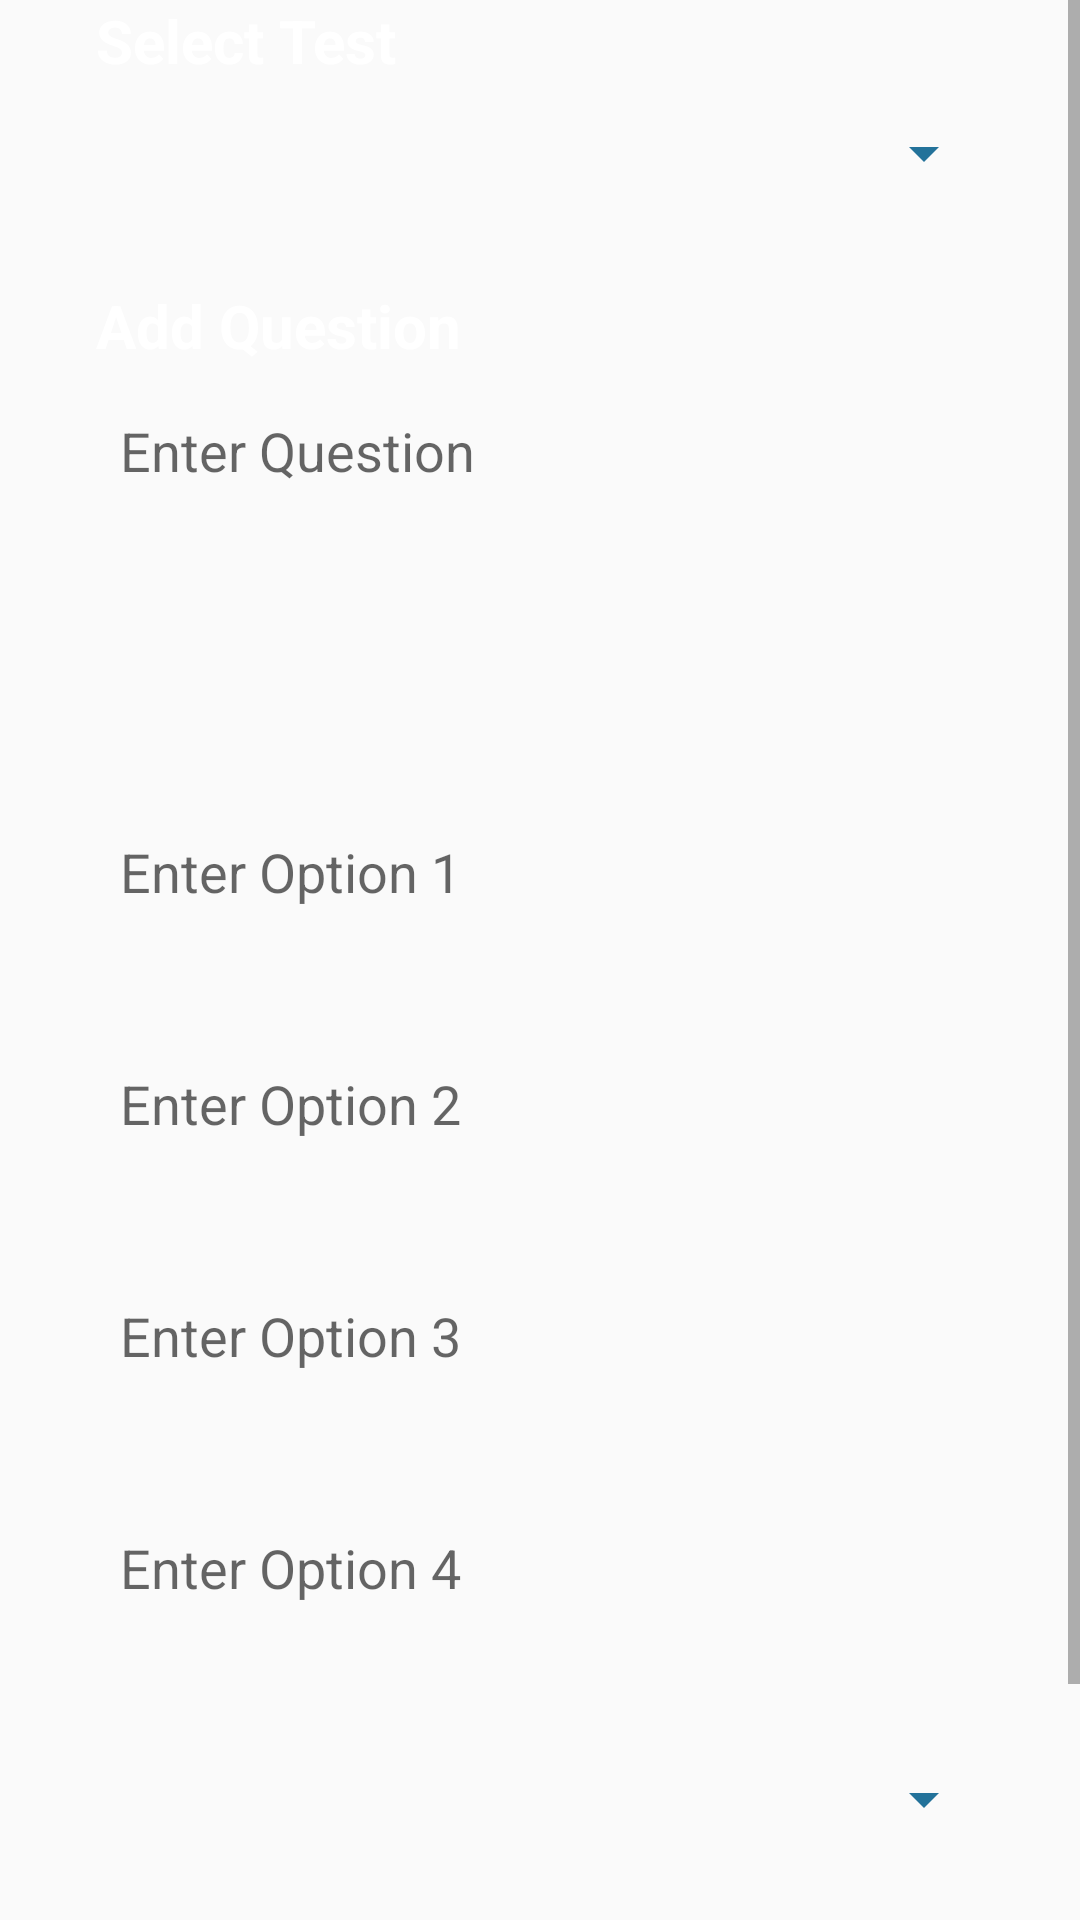

Icon click points for this 1080*1920 phone screenshot, format (x,y):
arrow drop down: (924,154), (924,1800)
